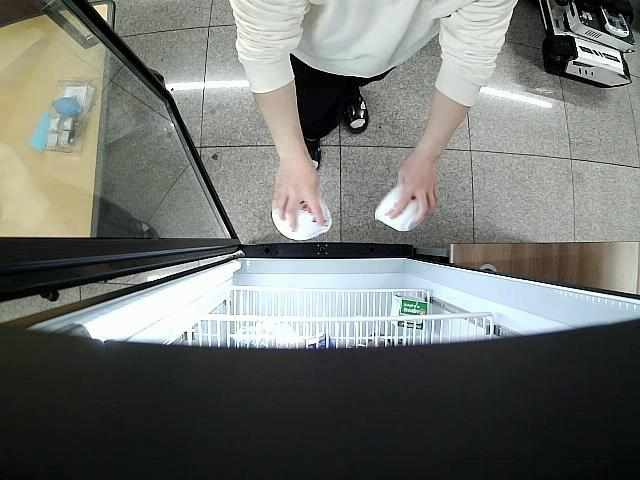09_yukGaeJang: (272, 196, 332, 240), (374, 185, 424, 234)
